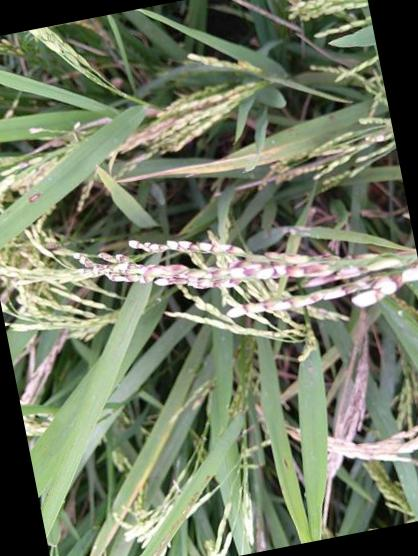Panicle Blight: (77, 244, 371, 288), (244, 263, 418, 313), (121, 94, 221, 152), (129, 239, 216, 254)
